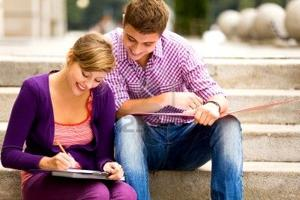person: (1, 35, 138, 199)
